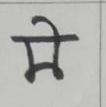e_matra: (32, 16, 65, 36)
